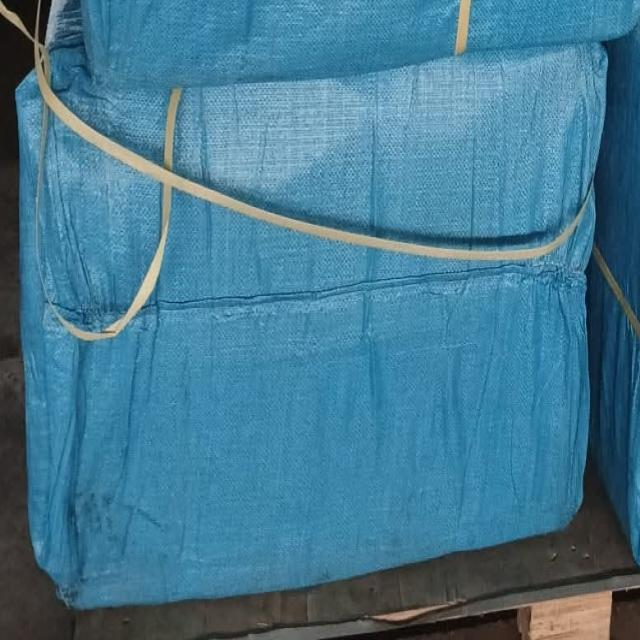package_damage: (21, 36, 597, 340)
